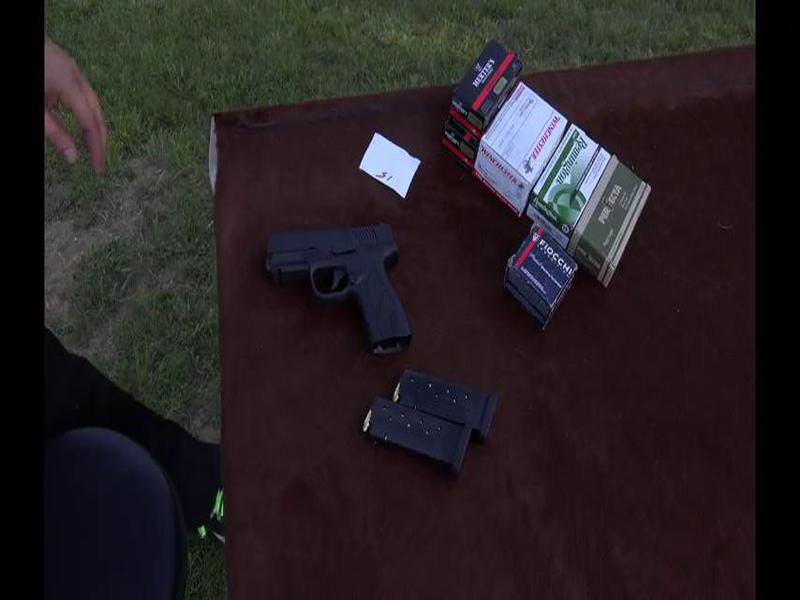Pistola: (258, 234, 421, 370)
